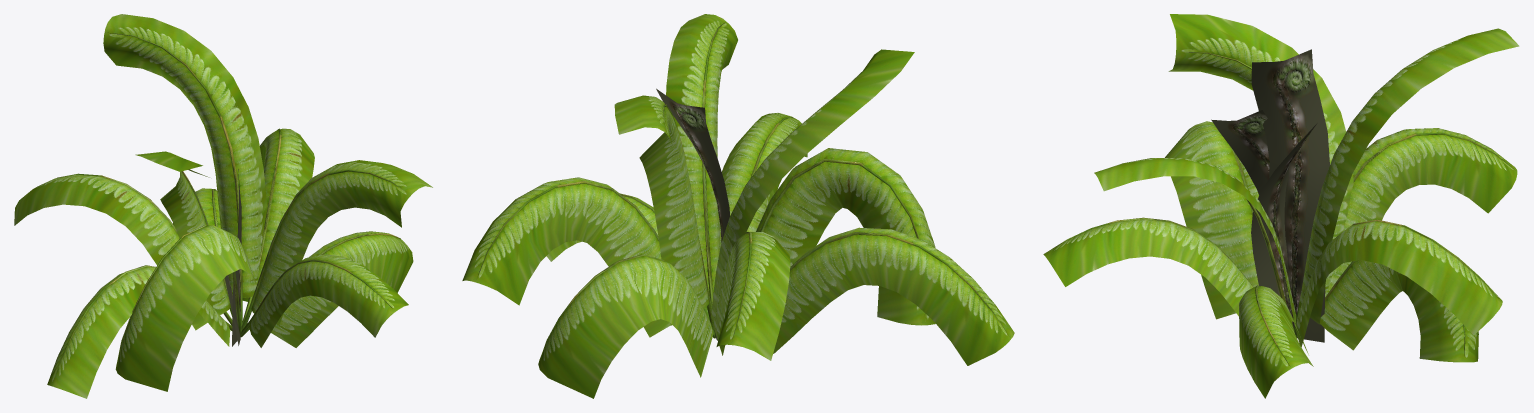
File: Boston_Fern.glb
3 renders of one model, left to right at view 1: azimuth 30°, elevation 25°; view 2: azimuth 150°, elevation 25°; view 3: azimuth 270°, elevation 25°, orthographic. The views are drawn at different scales.
Parts seen in each view (by area): view 1: Boston_Fern_Hero_29; view 2: Boston_Fern_Hero_29; view 3: Boston_Fern_Hero_29.
Part boxes in pixels (x1,y1,x2,y2): Boston_Fern_Hero_29: (14, 14, 432, 398); Boston_Fern_Hero_29: (462, 14, 1014, 398); Boston_Fern_Hero_29: (1043, 14, 1519, 398).
Bounding box in the file's own units: 0.4396 × 0.2974 × 0.4184.
Materials: 3 (3 with a texture image).
